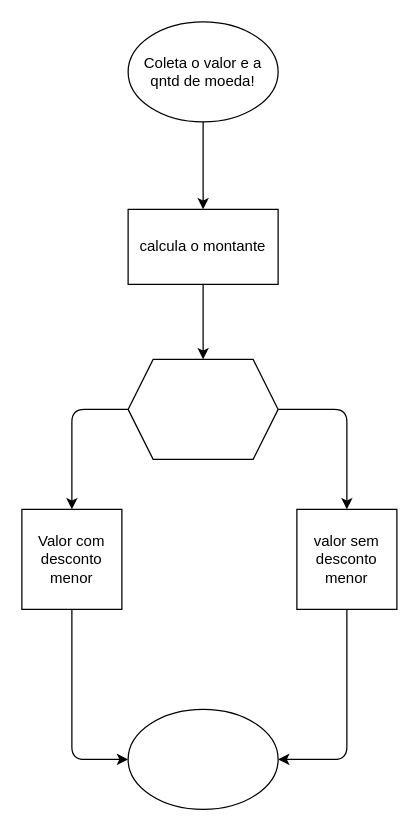
This 419x831 diagram has some shape labels left out. The shapes that lost their labels are listed below. From the top down, each one's centre as x and y in pixels, then its label:
(x=202, y=408): verifica valor
(x=202, y=758): imprime a decisão
